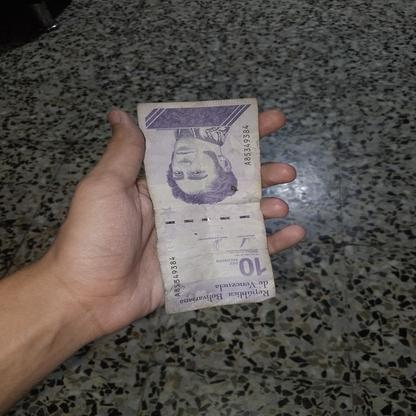ten-front-vef: (136, 100, 276, 314)
